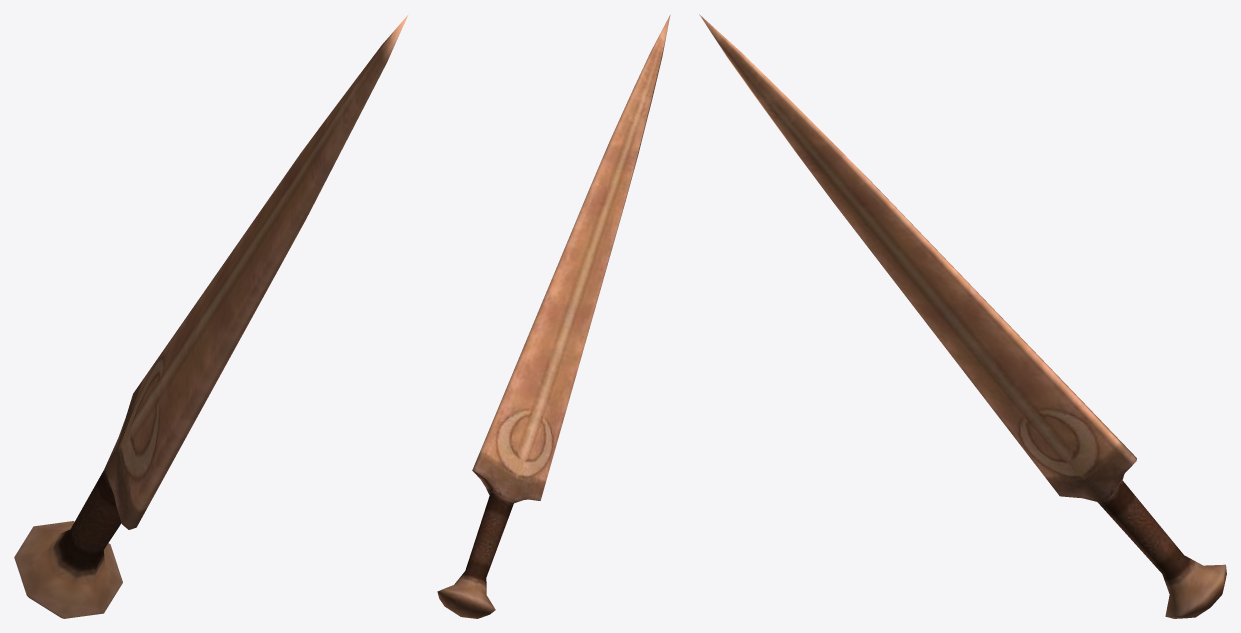
Rendered from rider-weapon-slice-copperweapons.glb.
3 views of the same model, side by side, from view 1: azimuth 30°, elevation 25°; view 2: azimuth 150°, elevation 25°; view 3: azimuth 270°, elevation 25° (orthographic). The views are drawn at different scales.
Bounding box in the file's own units: 0.0979 × 0.8387 × 0.6743.
Materials: 1 (1 with a texture image).
